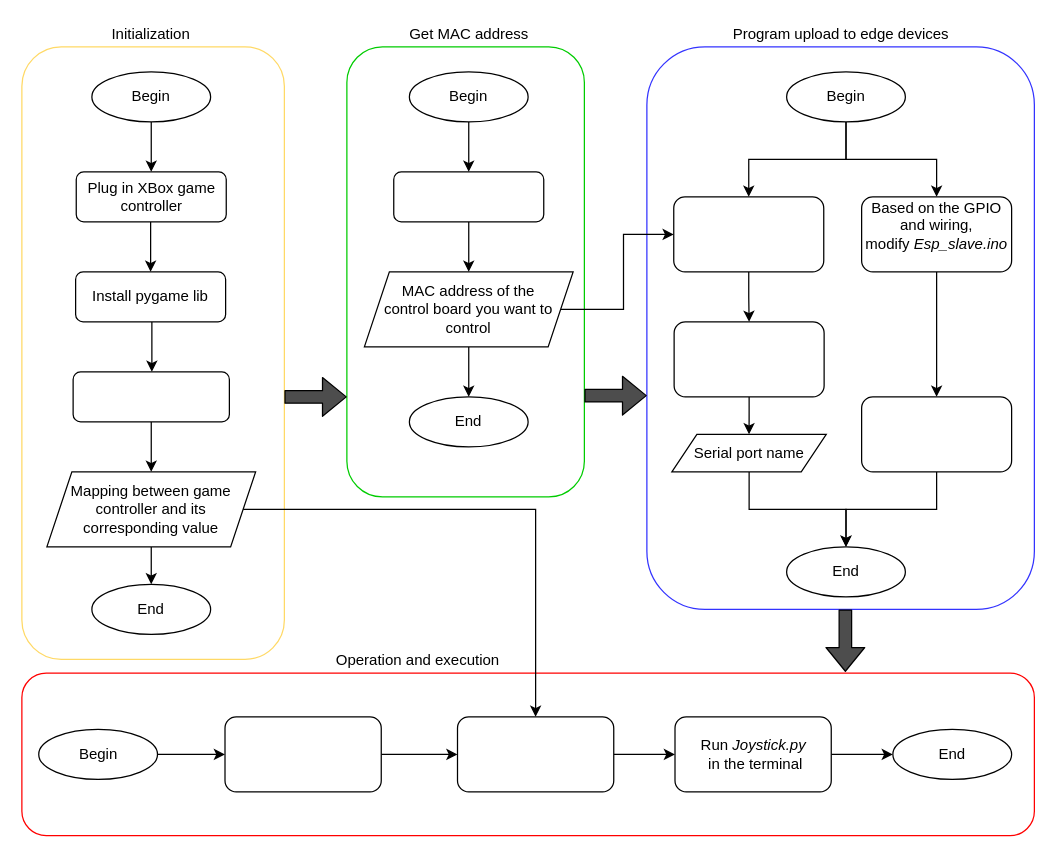
Some shapes in this 1056 by 858 pixel diagram are drawn without their labels. The centre of each missing label's shape, as x and y in pixels:
"Based on MAC address, modify Esp8266_master.ino" belongs at pixel 748 234.
"Based on Mapping data, modify Joystick.py" belongs at pixel 535 754.
"Connect game controller and master control board to the PC" belongs at pixel 302 754.
"Run controller_test.py" belongs at pixel 150 396.
"Run MAC.ino or MAC_esp8266.ino" belongs at pixel 468 196.
"Upload Esp8266_master.ino to the master control board" belongs at pixel 748 359.
"Upload Esp_slave.ino to the slave control boards" belongs at pixel 936 434.
